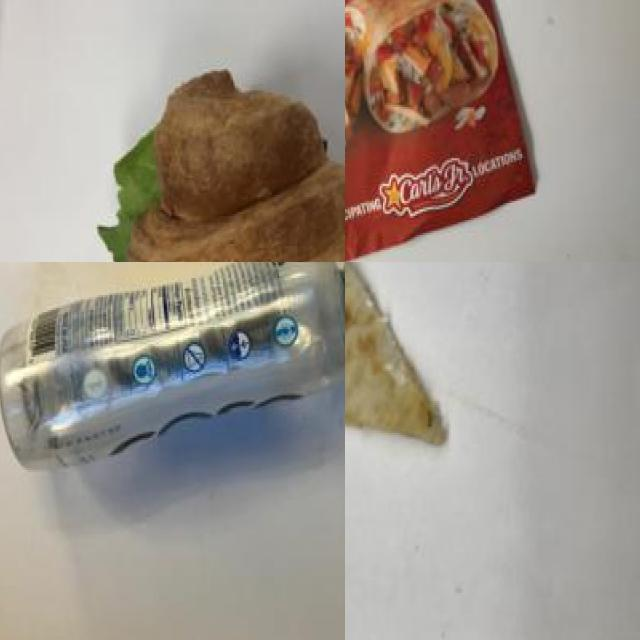compost: (83, 55, 345, 262), (345, 262, 475, 467)
paper: (345, 0, 545, 262)
plastic: (0, 262, 345, 466)
